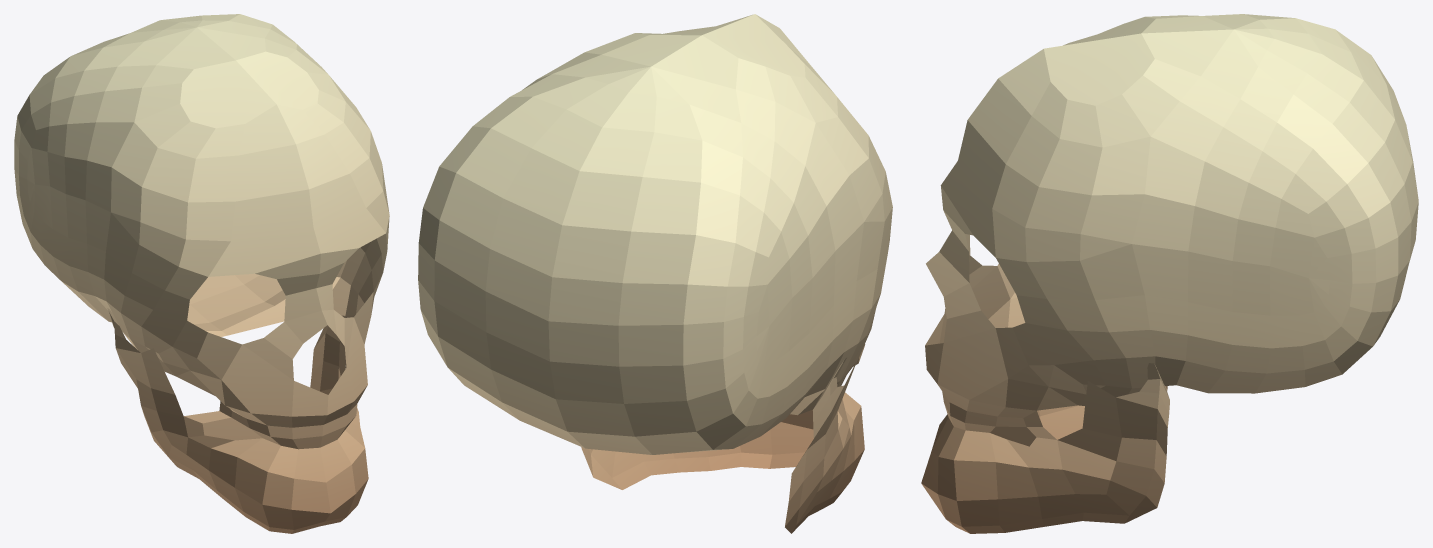
Rendered from skull.fbx.
The picture shows the model from 3 angles, left to right: view 1: azimuth 30°, elevation 25°; view 2: azimuth 150°, elevation 25°; view 3: azimuth 270°, elevation 25°; orthographic projection. The views are drawn at different scales.
Visible parts, largest first — view 1: Skull; view 2: Skull; view 3: Skull.
Boxes of the visible parts, x1=… form: Skull: x1=14, y1=14, x2=389, y2=533; Skull: x1=418, y1=14, x2=892, y2=533; Skull: x1=921, y1=14, x2=1418, y2=533.
Size of the model in its own units: 15.95 by 24.05 by 22.41.
